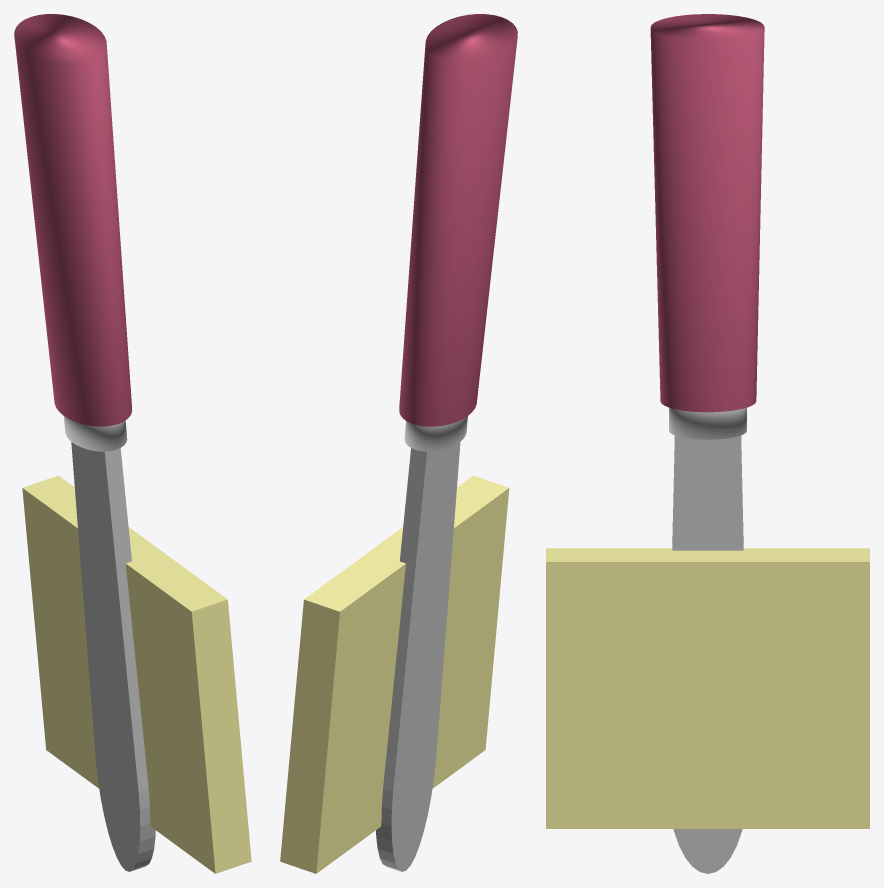
Rendered from butterknife1.fbx.
The picture shows the model from 3 angles, left to right: view 1: azimuth 30°, elevation 25°; view 2: azimuth 150°, elevation 25°; view 3: azimuth 270°, elevation 25°; orthographic projection. The views are drawn at different scales.
Parts seen in each view (by area): view 1: Cube.021, Cylinder.010, Cylinder.014; view 2: Cube.021, Cylinder.010, Cylinder.014; view 3: Cube.021, Cylinder.010, Cylinder.014.
Boxes of the visible parts, x1,y1,x2,y2 form: Cube.021: [22, 475, 251, 873]; Cylinder.010: [14, 14, 131, 426]; Cylinder.014: [63, 416, 155, 871]; Cube.021: [280, 475, 509, 873]; Cylinder.010: [399, 14, 517, 426]; Cylinder.014: [376, 416, 467, 871]; Cube.021: [546, 548, 869, 828]; Cylinder.010: [650, 14, 764, 412]; Cylinder.014: [669, 407, 746, 873].
Bounding box in the file's own units: 33.39 × 191 × 68.92.
